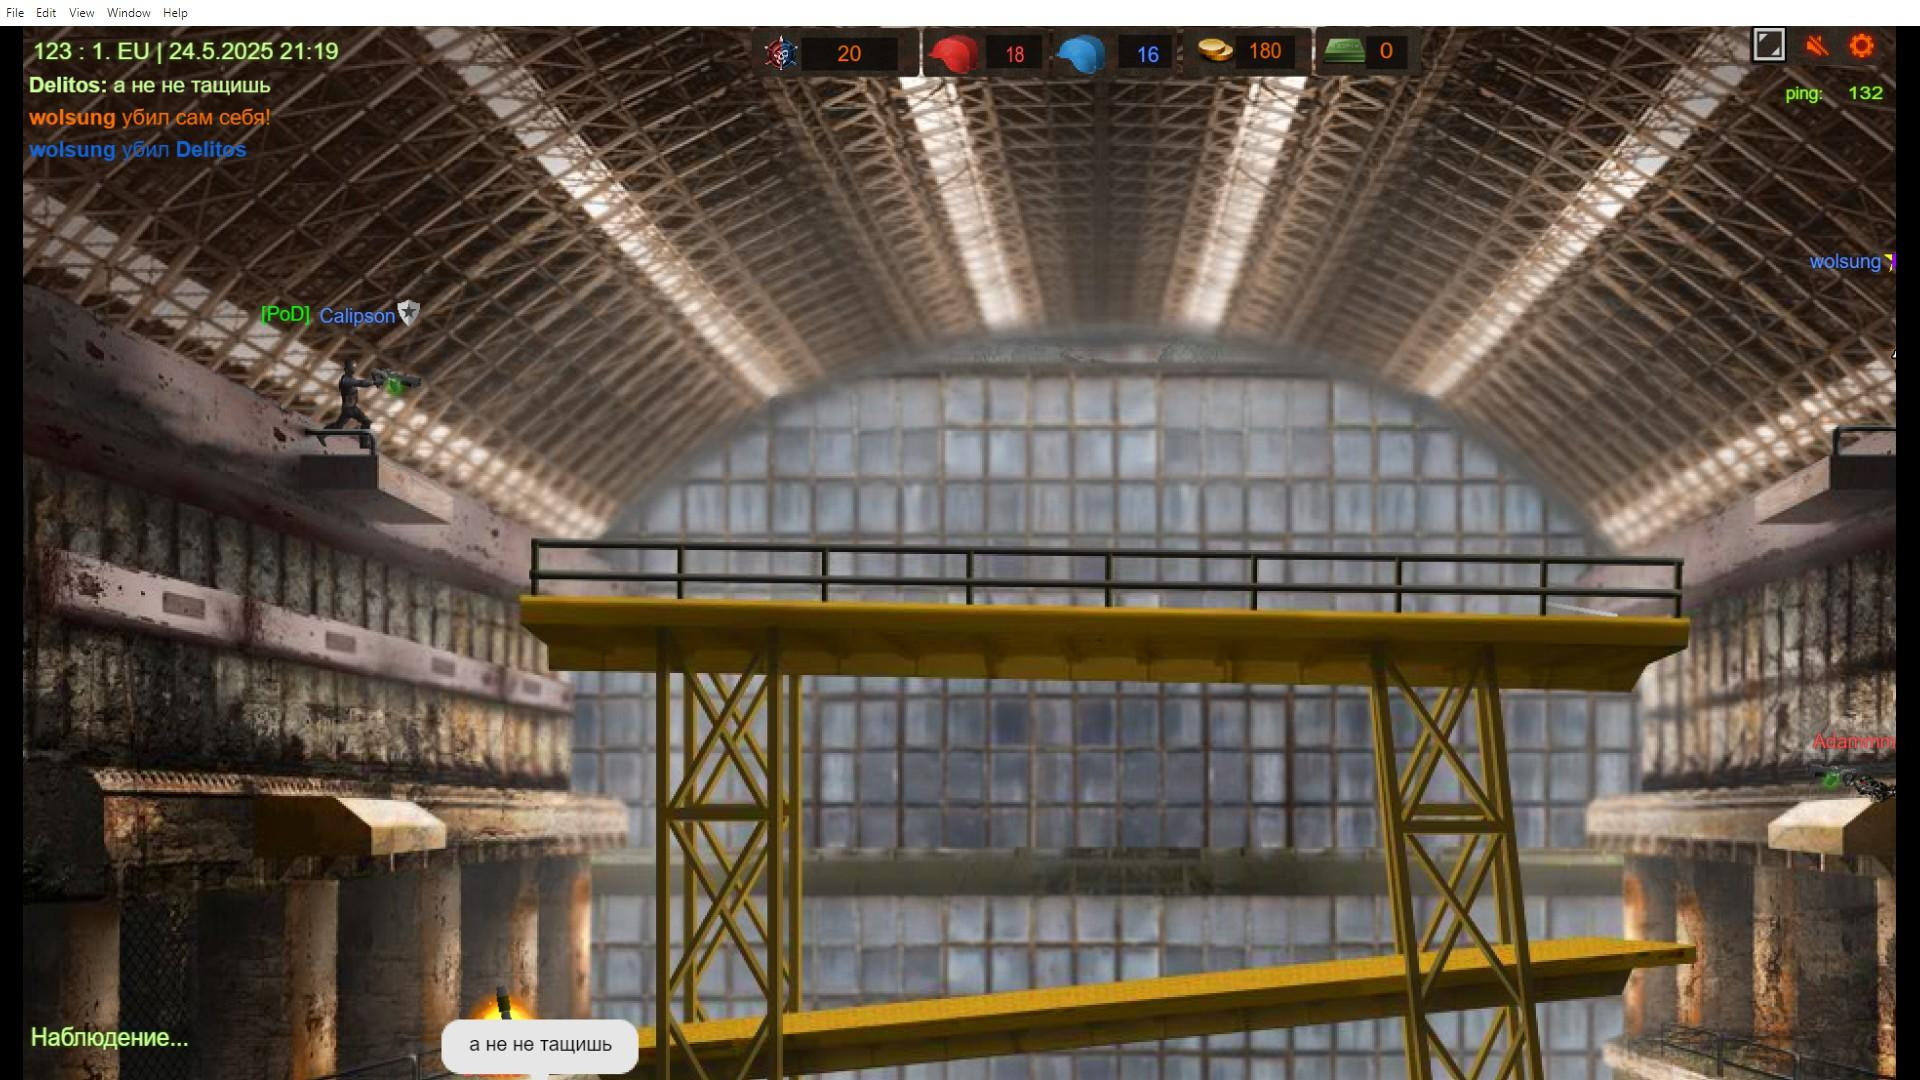enemy: (342, 363, 372, 451), (1855, 770, 1894, 799)
